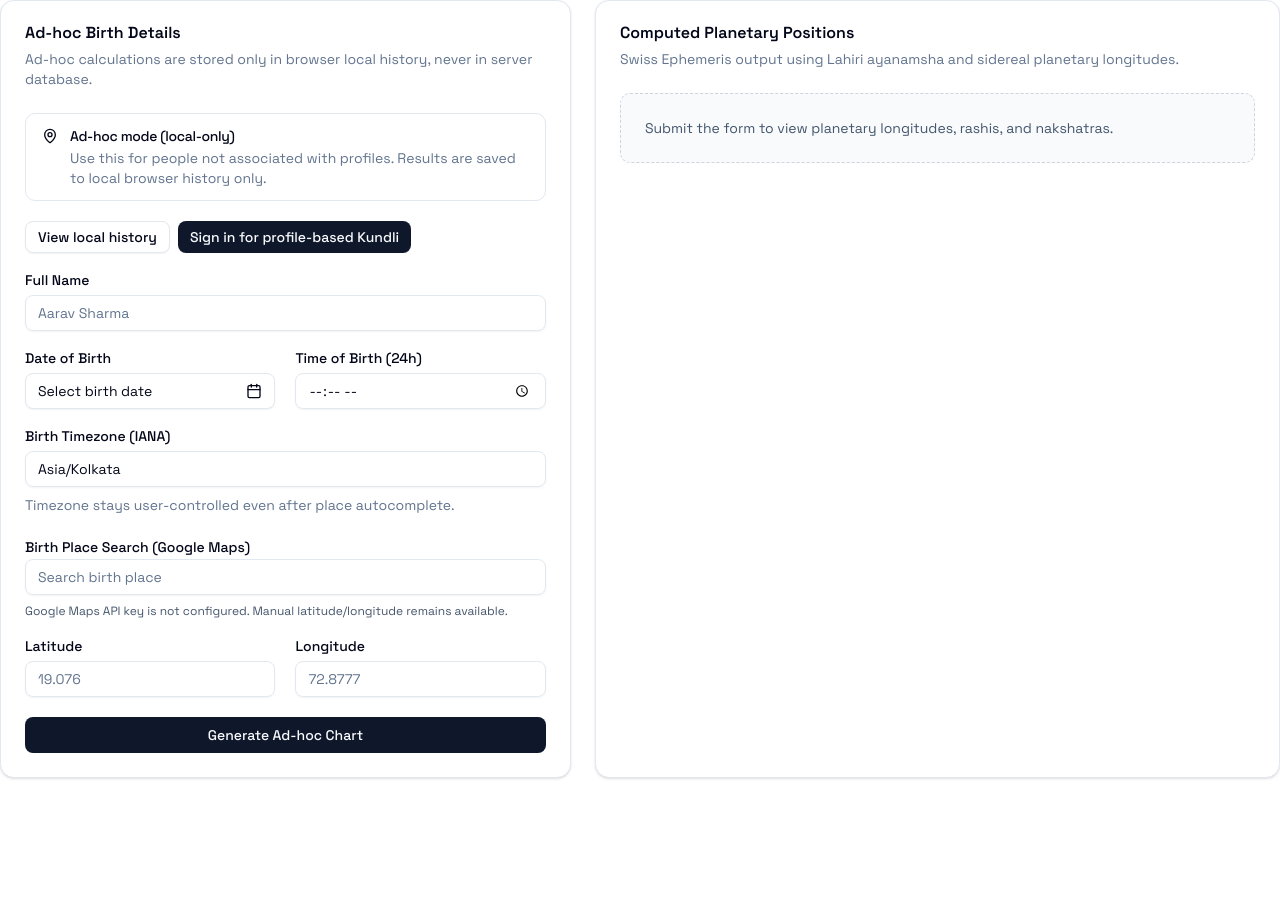
Test: CalculateFormClient › shows validation feedback
Click the button "Generate Ad-hoc Chart": (285, 735) [25,717,546,753]
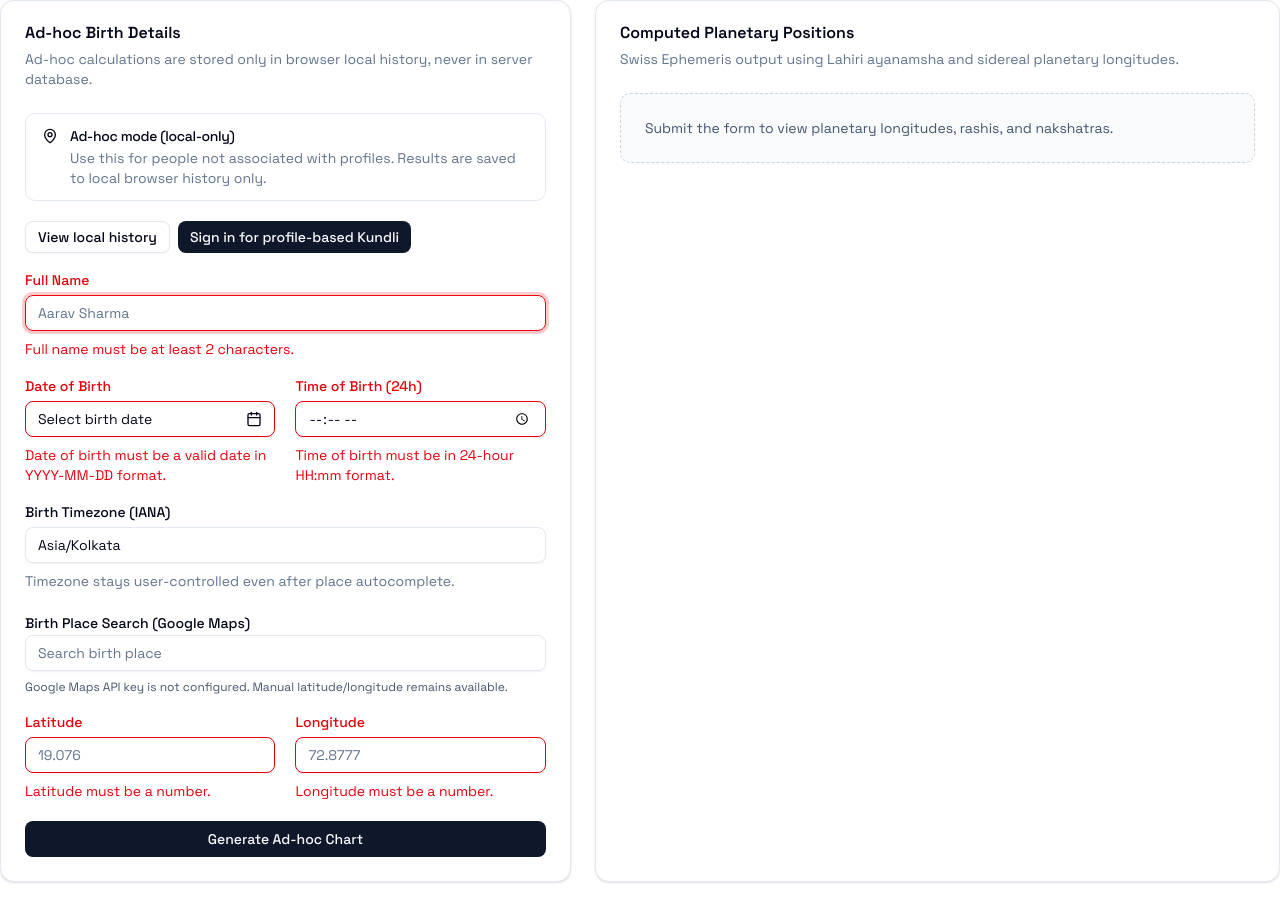
Check: the text "Full name must be at least 2 characters." is shown, box [25,340,294,358]
Check: the text "Date of birth must be a valid date in YYYY-MM-DD format." is shown, box [25,445,276,485]
Check: the text "Time of birth must be in 24-hour HH:mm format." is shown, box [296,445,546,485]
